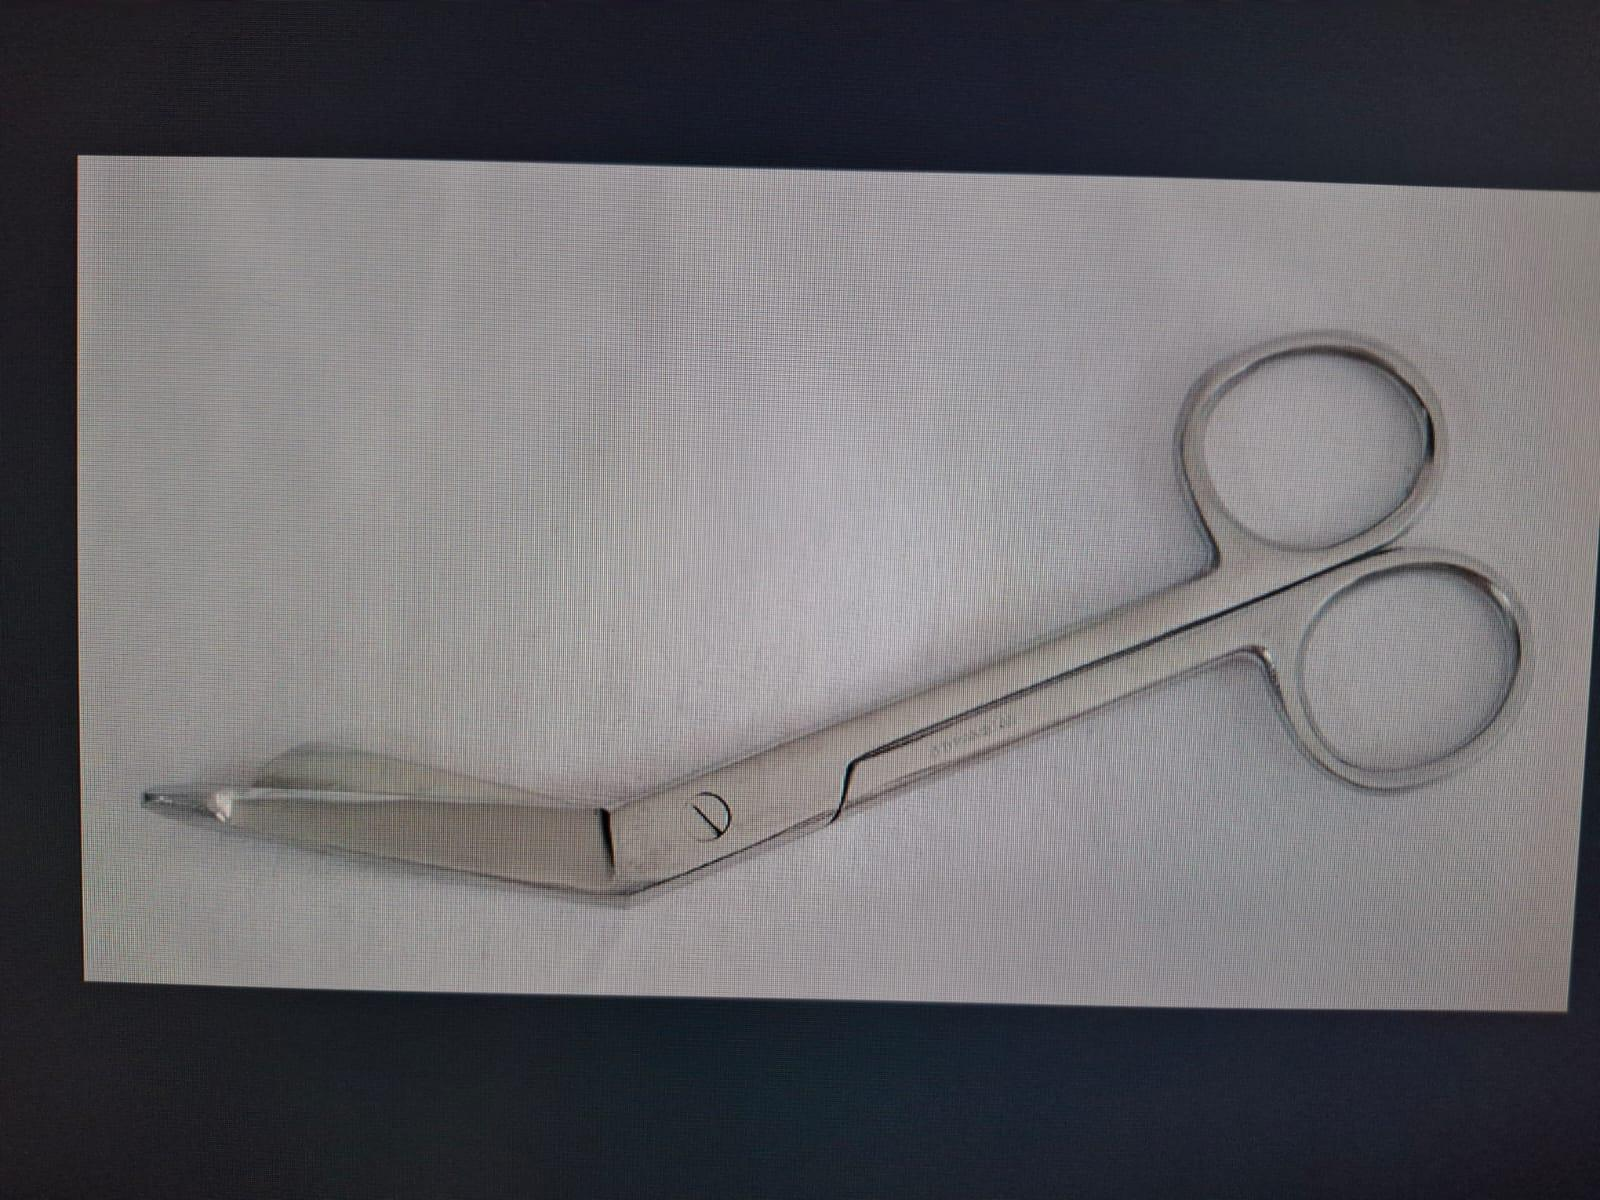Bandage Sciccors: (129, 316, 1545, 928)
